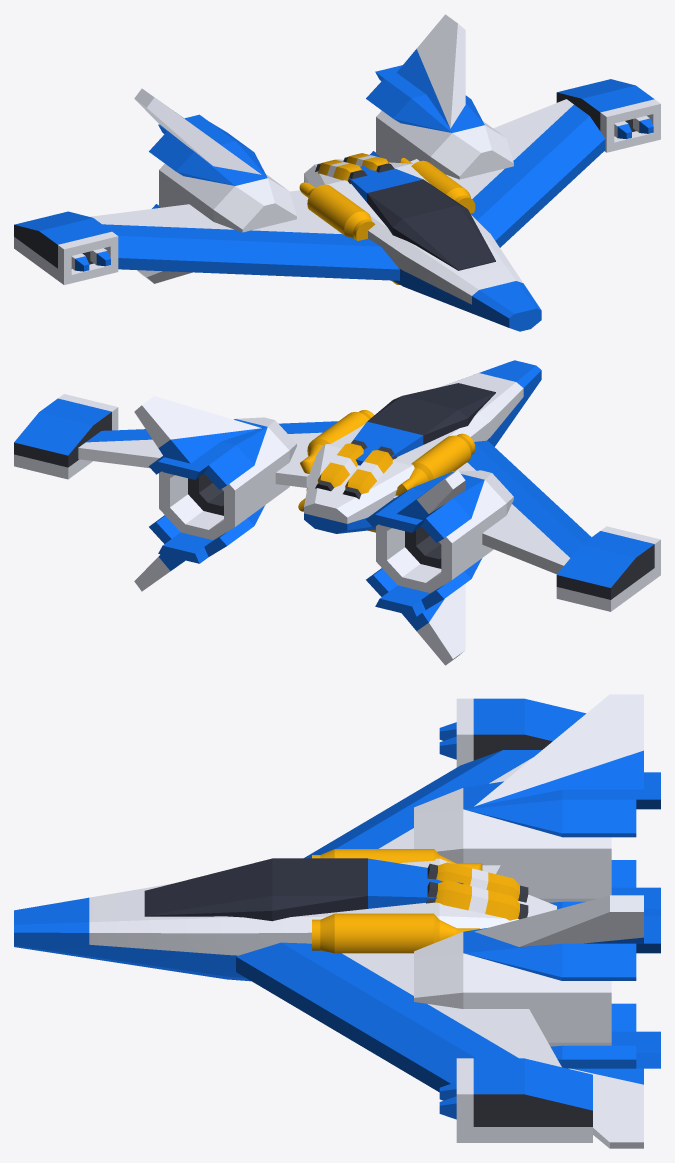
The model's file is ship2.obj.
3 renders of one model, top to bottom at view 1: azimuth 30°, elevation 25°; view 2: azimuth 150°, elevation 25°; view 3: azimuth 270°, elevation 25°, orthographic. The views are drawn at different scales.
Parts seen in each view (by area): view 1: mergedBlocks; view 2: mergedBlocks; view 3: mergedBlocks.
Boxes of the visible parts, left/top/right/bottom form: mergedBlocks: left=14, top=14, right=660, bottom=331; mergedBlocks: left=14, top=360, right=660, bottom=665; mergedBlocks: left=14, top=694, right=660, bottom=1148.
Bounding box in the file's own units: 5.5 × 1.64 × 3.8.
